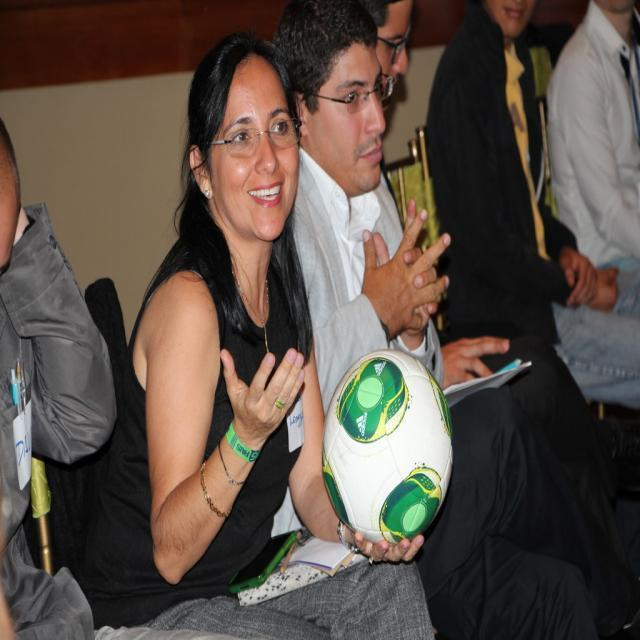football: (311, 339, 463, 561)
